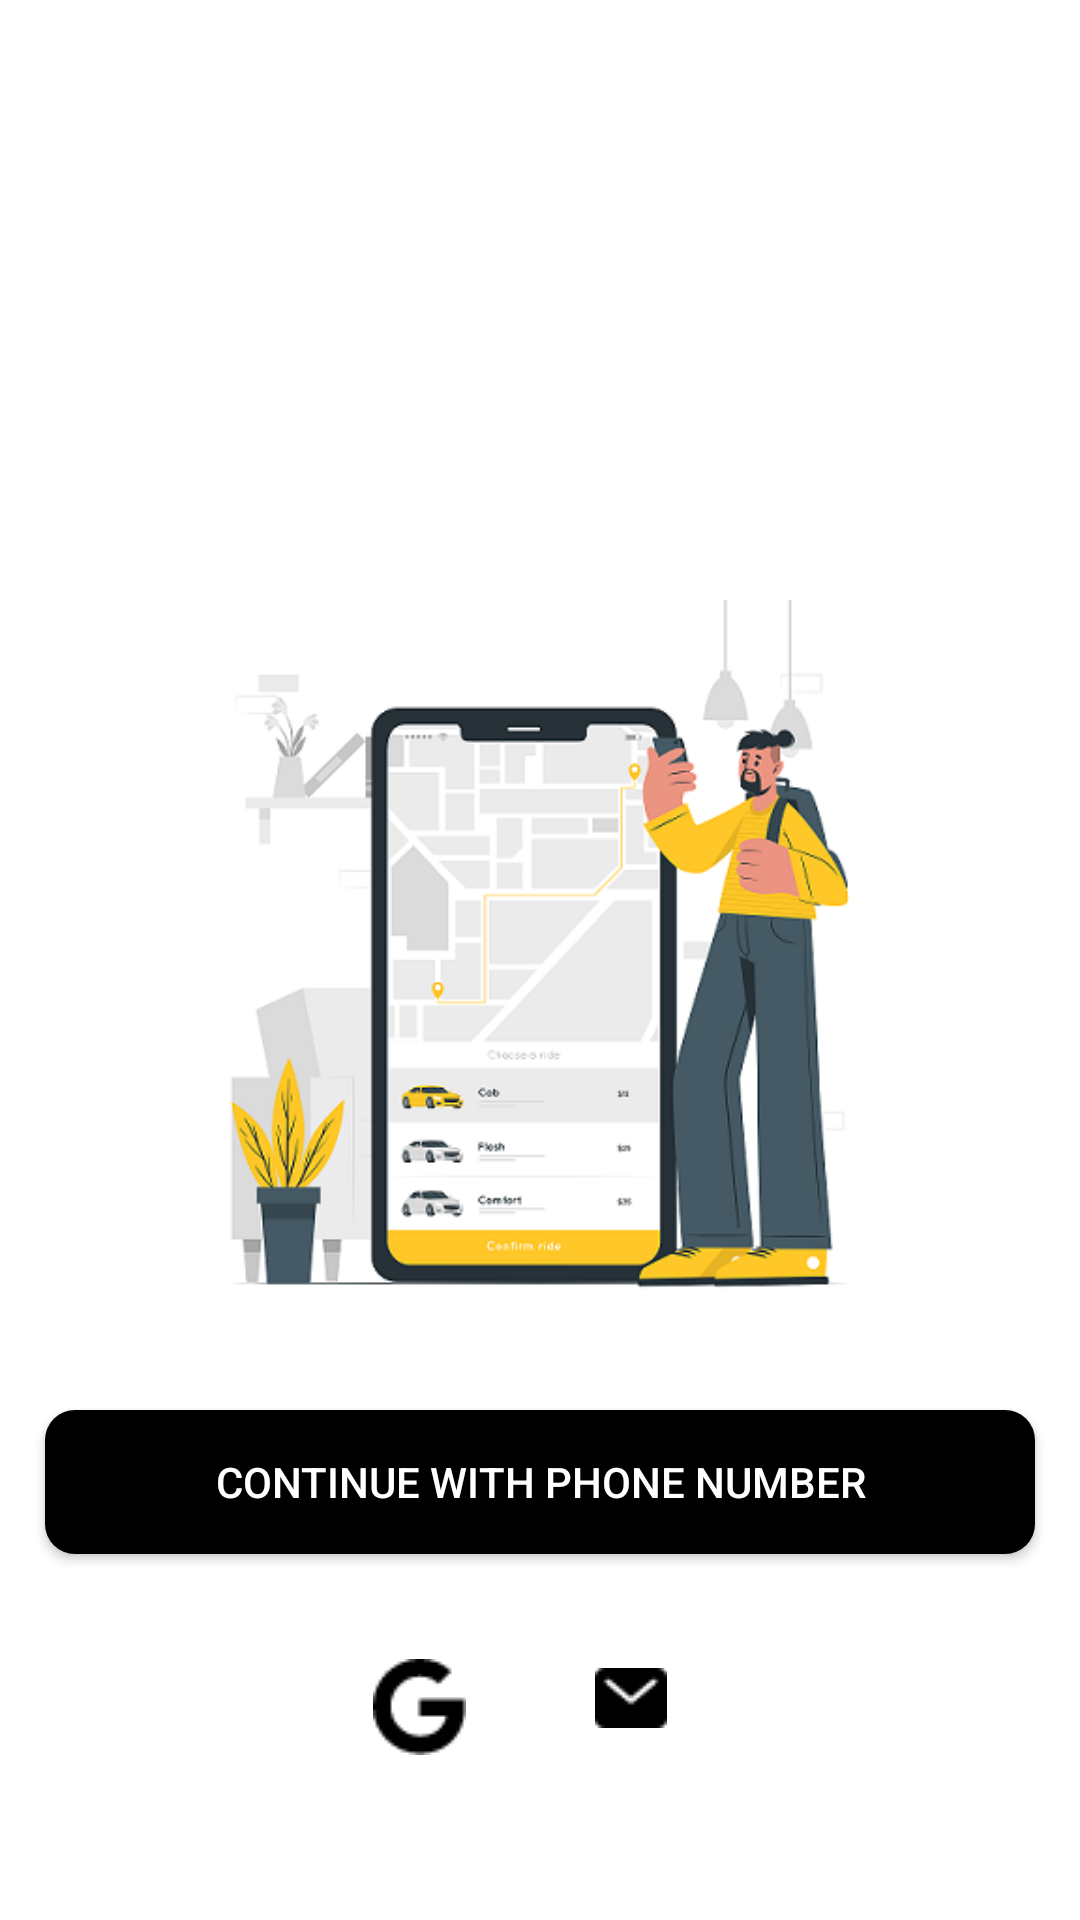

Point at icon controls on the screen. Image size 1080px×1920px, points as point (x, y).
mail: point (631, 1698)
